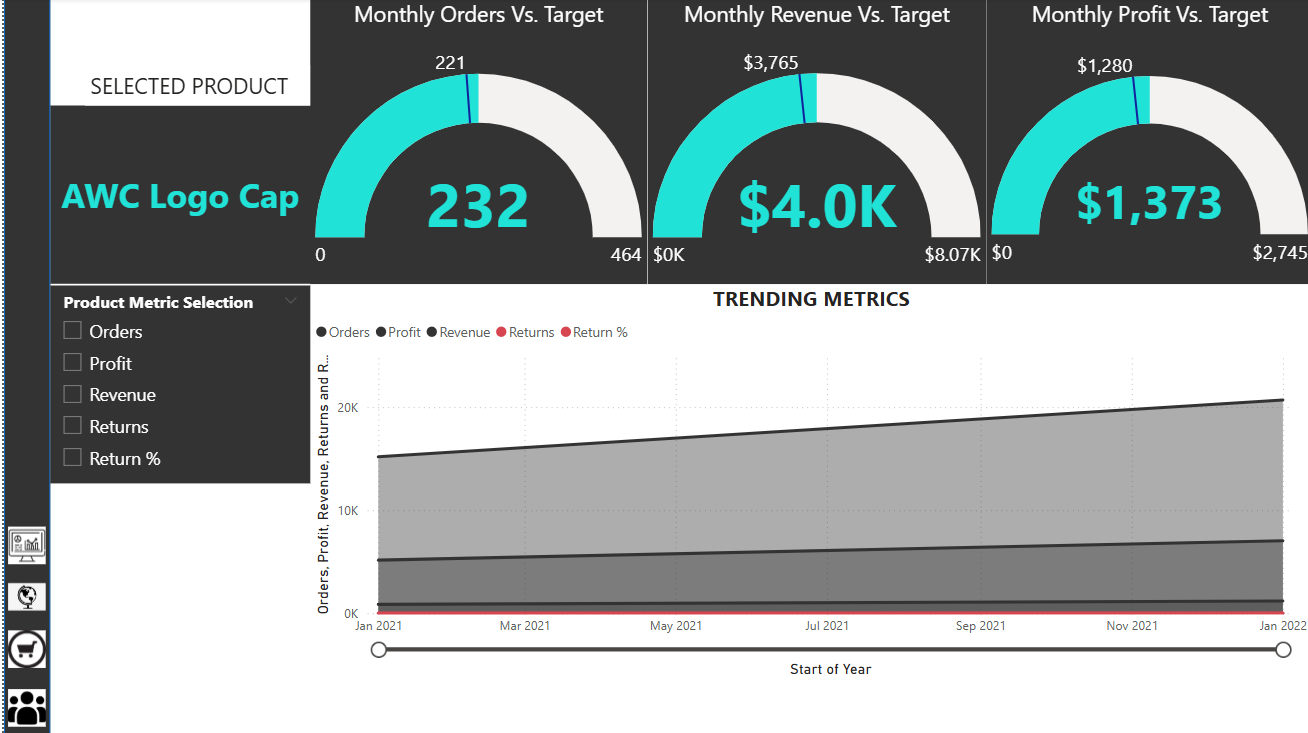

What the dashboard file says about the page in this screenshot:
{"tool":"powerbi","page":{"name":"Product Details","canvas":[1280,720],"ordinal":2},"visuals":[{"type":"gauge","title":"Monthly Orders Vs. Target","fields":{"TargetValue":["Table measure.Order Target"],"Y":["Table measure.Total Orders"]},"box":[300,0,329.6,280.3],"z":0},{"type":"actionButton","box":[0,509.9,45.1,50.7],"z":0,"group":"g1"},{"type":"actionButton","box":[0,611.3,45.1,50.7],"z":1000,"group":"g1"},{"type":"gauge","title":"Monthly Revenue Vs. Target","fields":{"TargetValue":["Table measure.Target Revenue"],"Y":["Table measure.Total Revenue"]},"box":[629.6,0,331,280.3],"z":2000},{"type":"actionButton","box":[0,560.6,45.1,50.7],"z":2000,"group":"g1"},{"type":"gauge","title":"Monthly Profit Vs. Target","fields":{"TargetValue":["Table measure.Profit Target"],"Y":["Table measure.Total Profit"]},"box":[960.6,0,319.7,280.3],"z":3000},{"type":"actionButton","box":[0,669.1,45.1,50.7],"z":3000,"group":"g1"},{"type":"areaChart","title":"TRENDING METRICS","fields":{"Category":["Calendar Lookup.Start of Year","Calendar Lookup.Start of Quarter","Calendar Lookup.Start of Month","Calendar Lookup.Start of Week"],"Y":["Table measure.Total Orders","Table measure.Total Profit","Table measure.Total Revenue","Table measure.Total Returns","Table measure.Return rate"]},"box":[299.6,280,980.7,388.9],"z":3001},{"type":"card","fields":{"Values":["Min(Product Lookup.ProductName)"]},"box":[45.1,105.6,254.9,174.6],"z":3003},{"type":"textbox","box":[79.5,66,220.1,39.1],"z":3004},{"type":"actionButton","box":[1.4,26.8,40.8,39.4],"z":3005},{"type":"shape","title":"Left Nav Bar","box":[0,0,45.2,720.2],"z":3006},{"type":"group","id":"g1","title":"Navigation Buttons","box":[0,509.9,45.1,209.9],"z":3007},{"type":"slicer","fields":{"Values":["Product Metric Selection.Product Metric Selection"]},"box":[45.2,281.3,254.3,193.2],"z":3008}]}

Visuals, with their boxes in screenshot pixels (x1, y1, x2, y2), scaled from the page's 1280x720 canvas onto the 1308x733 screenshot:
"Monthly Orders Vs. Target" gauge: select_region(307, 0, 643, 285)
actionButton: select_region(0, 519, 46, 571)
actionButton: select_region(0, 622, 46, 674)
"Monthly Revenue Vs. Target" gauge: select_region(643, 0, 982, 285)
actionButton: select_region(0, 571, 46, 622)
"Monthly Profit Vs. Target" gauge: select_region(982, 0, 1307, 285)
actionButton: select_region(0, 681, 46, 732)
"TRENDING METRICS" areaChart: select_region(306, 285, 1307, 681)
card - Min(Product Lookup.ProductName): select_region(46, 108, 307, 285)
textbox: select_region(81, 67, 306, 107)
actionButton: select_region(1, 27, 43, 67)
"Left Nav Bar" shape: select_region(0, 0, 46, 732)
"Navigation Buttons" group: select_region(0, 519, 46, 732)
slicer - Product Metric Selection.Product Metric Selection: select_region(46, 286, 306, 483)
